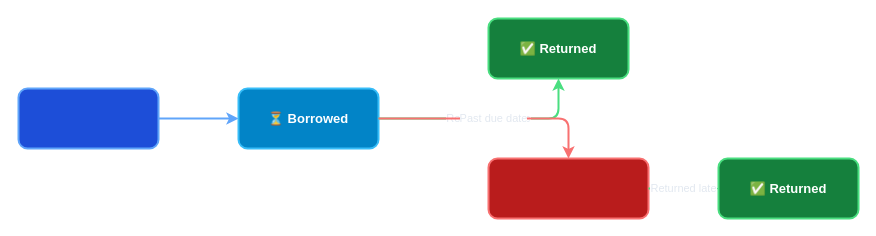
Image size: 876x236. Some labels were removed from this diagram. The shapes that lost their labels are listed below. From the top down, each one's centre as x and y in pixels, then its label:
pixel 88 118: 📋 Issued
pixel 568 188: 🚨 Overdue Past Expected Date
